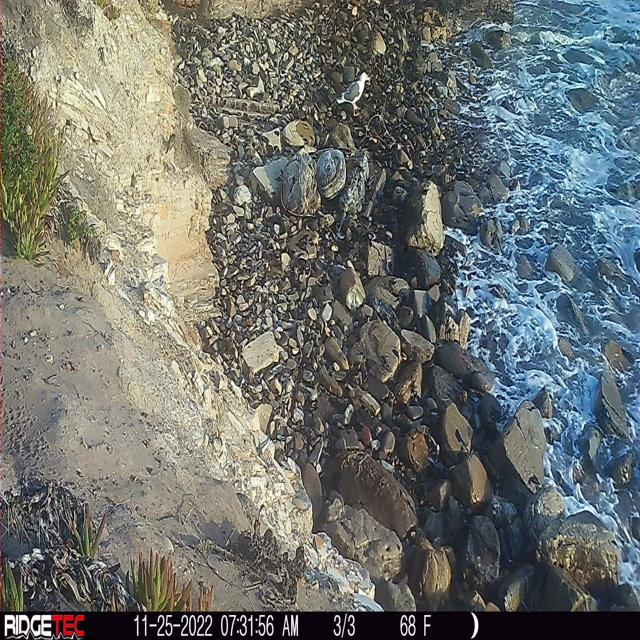bird: (332, 60, 374, 122)
